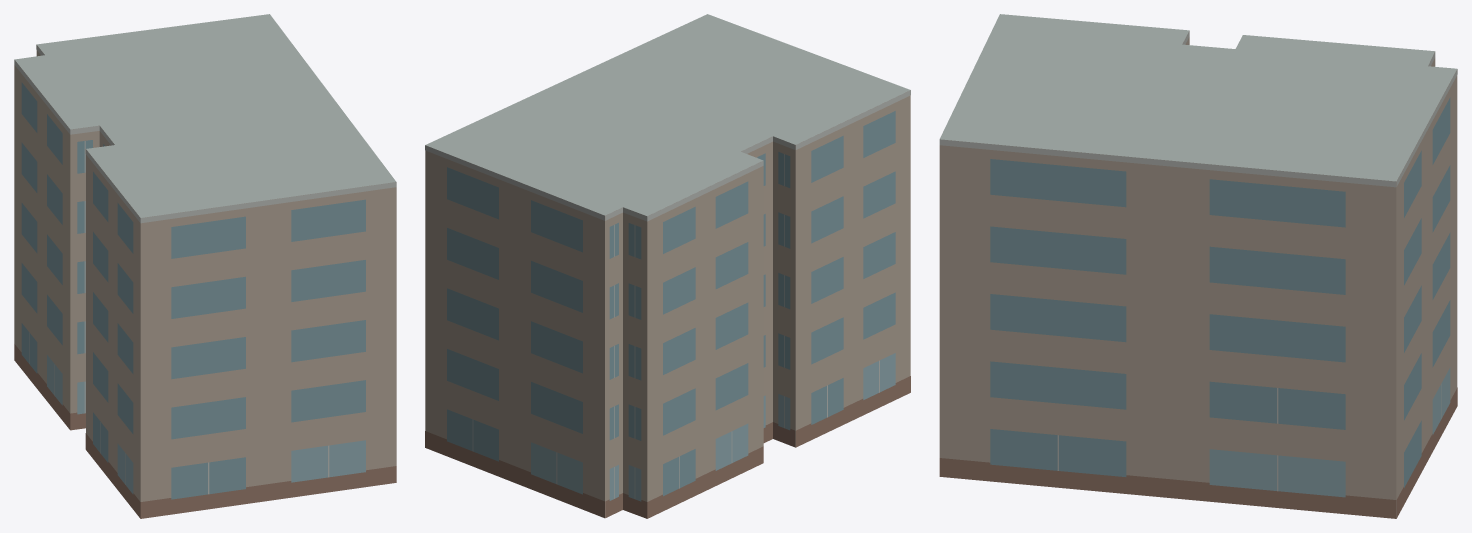
The model's file is survey-upis-32664839.glb.
3 views of the same model, side by side, from view 1: azimuth 30°, elevation 25°; view 2: azimuth 150°, elevation 25°; view 3: azimuth 270°, elevation 25° (orthographic). The views are drawn at different scales.
Parts seen in each view (by area): view 1: survey-upis-32664839.tmp; view 2: survey-upis-32664839.tmp; view 3: survey-upis-32664839.tmp.
Part boxes in pixels (x1=…): survey-upis-32664839.tmp: x1=14, y1=14, x2=396, y2=518; survey-upis-32664839.tmp: x1=425, y1=14, x2=910, y2=518; survey-upis-32664839.tmp: x1=939, y1=14, x2=1457, y2=518.
Bounding box in the file's own units: 14.92 × 14.01 × 19.5.
